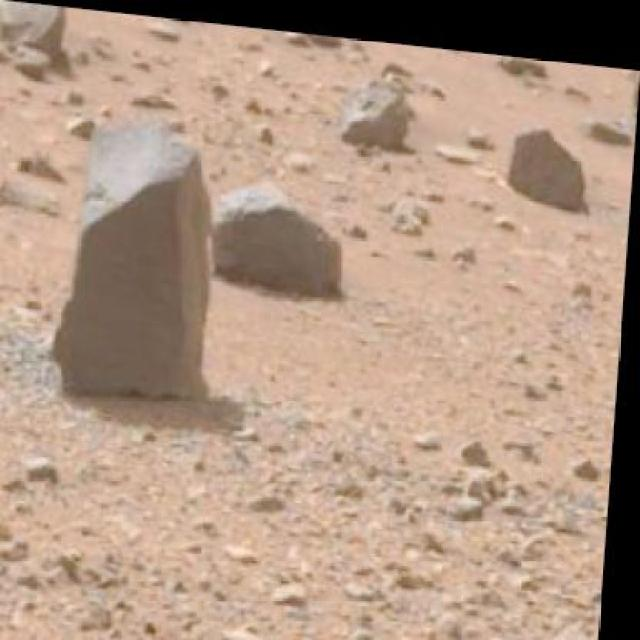rock: (47, 103, 230, 411), (213, 172, 358, 300), (348, 594, 606, 638), (503, 113, 600, 204), (0, 0, 80, 91), (336, 63, 418, 146), (272, 24, 350, 47), (623, 54, 637, 138)
